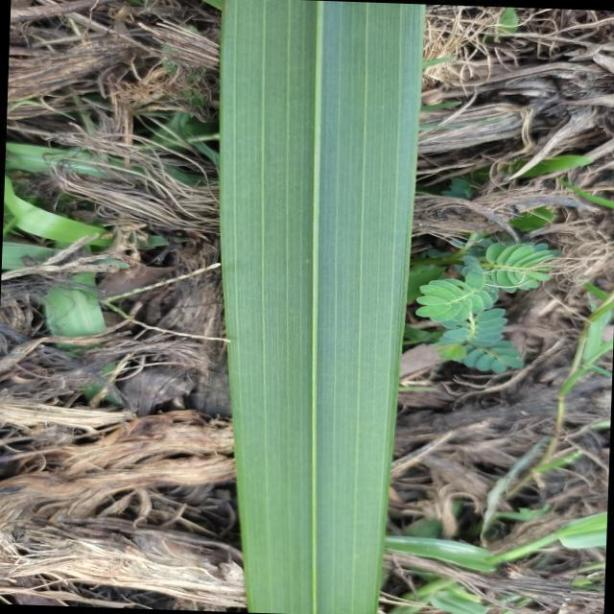Healthy: (216, 0, 420, 600)
